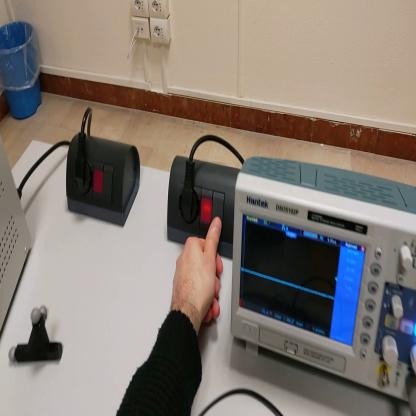hand: (171, 218, 224, 330)
oscilloscope: (230, 141, 416, 406)
power supply: (2, 123, 31, 337)
socket: (65, 129, 143, 232), (168, 153, 240, 258)
